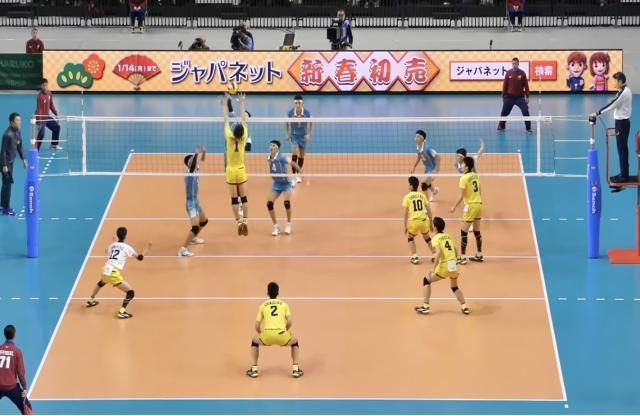block: (215, 92, 255, 240)
